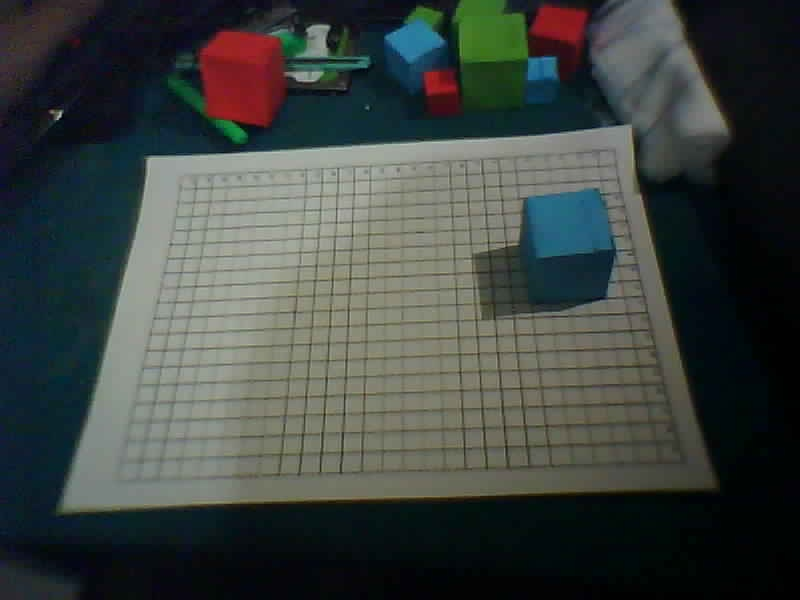blue(4x4x4): (497, 184, 635, 320)
